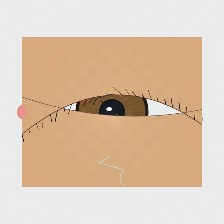foreign_body_visible: (75, 88, 93, 103)
